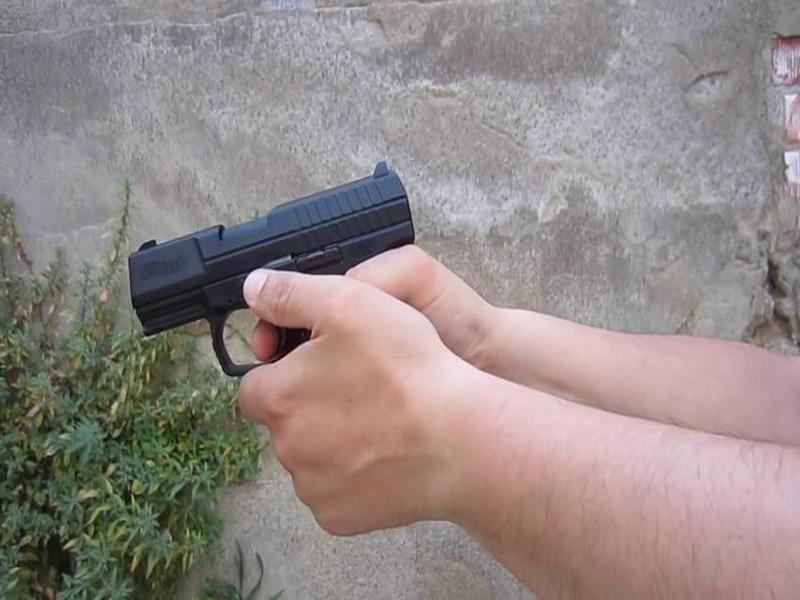Pistola: (108, 154, 418, 389)
